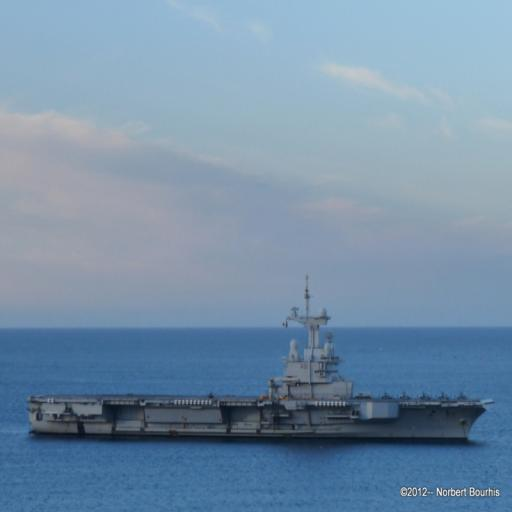Portanaves: (22, 272, 494, 449)
